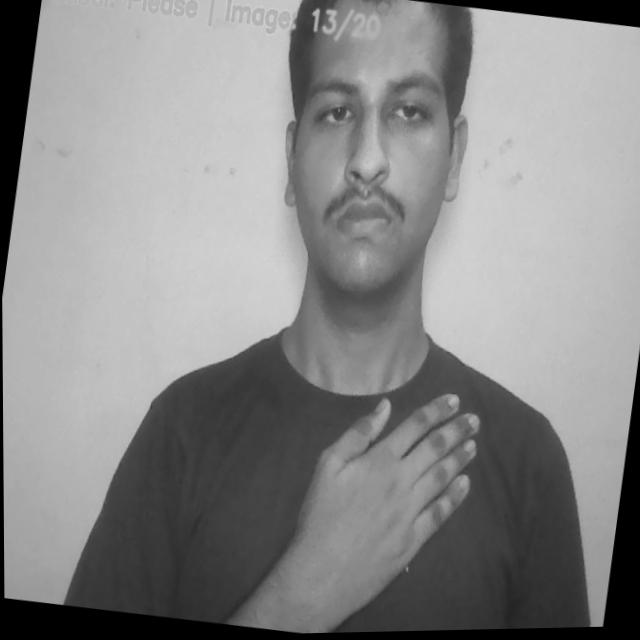Please: (246, 379, 478, 625)
